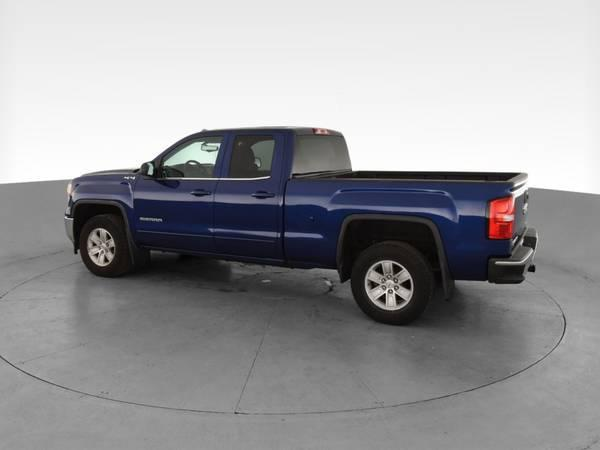Front_Bumper: (65, 215, 76, 247)
Front_Fender: (66, 172, 141, 250)
Front_Left_Door: (132, 178, 217, 253)
Front_Left_Window: (140, 131, 234, 178)
Left_Taillight: (487, 192, 515, 237)
Rear_Bumper: (488, 226, 537, 288)
Rear_Fender: (285, 178, 514, 282)
Rear_Left_Door: (214, 177, 286, 268)
Rear_Left_Window: (222, 128, 291, 179)
Rear_Windshield: (287, 127, 355, 177)
Tailgate: (512, 171, 531, 254)
Wheel: (350, 239, 435, 323), (79, 212, 132, 275)
